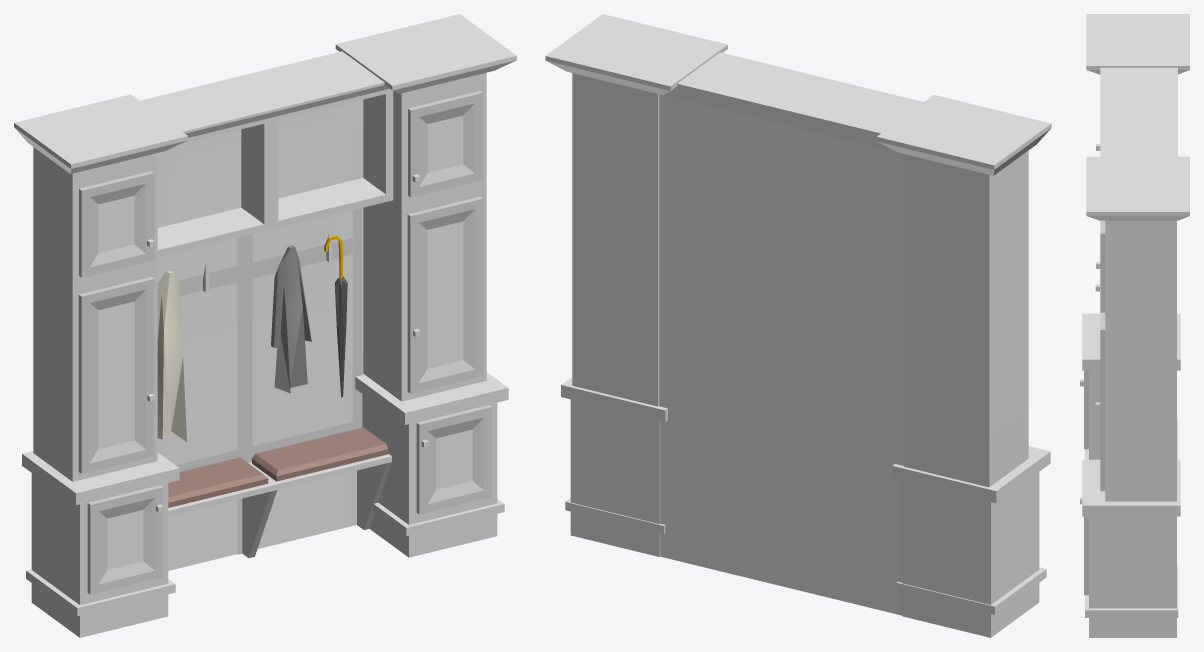
File: closet_038.glb
3 views of the same model, side by side, from view 1: azimuth 30°, elevation 25°; view 2: azimuth 150°, elevation 25°; view 3: azimuth 270°, elevation 25° (orthographic). The views are drawn at different scales.
Visible parts, largest first — view 1: closet_038; view 2: closet_038; view 3: closet_038.
Part boxes in pixels (x1,y1,x2,y2): closet_038: [14, 14, 516, 637]; closet_038: [545, 14, 1051, 637]; closet_038: [1080, 14, 1189, 637].
Size of the model in its own units: 2.47 by 2.53 by 0.5794.
1 material, 1 textured.
